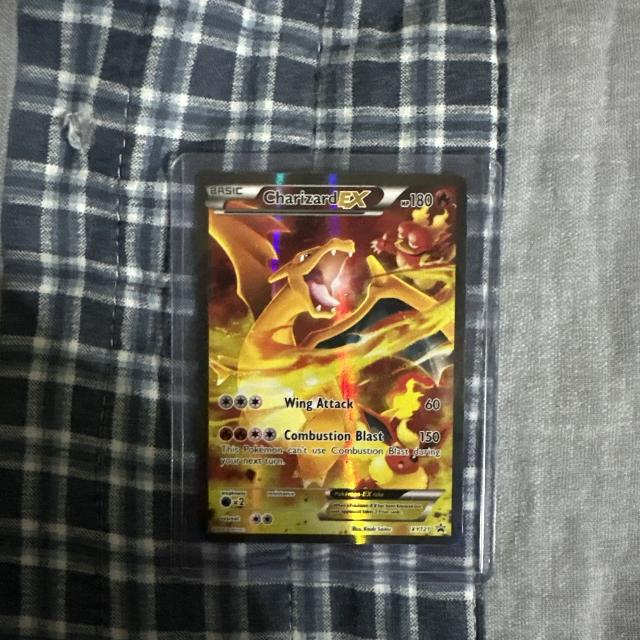Card: (185, 168, 470, 548)
Name: (258, 185, 381, 214)
